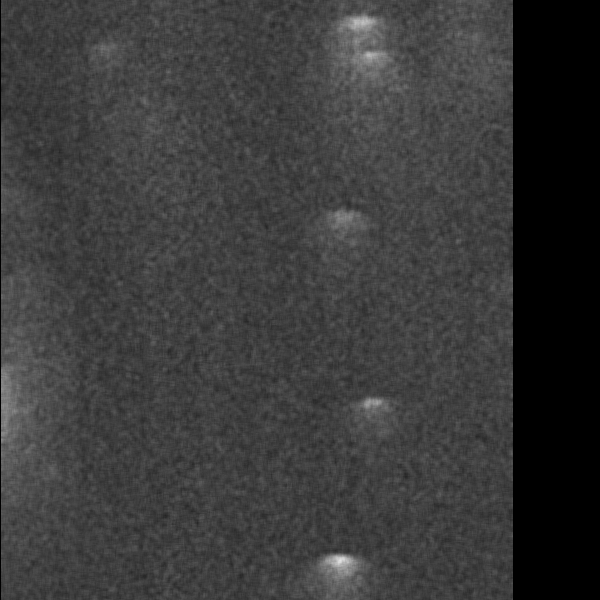spark: (325, 280, 365, 339), (48, 15, 74, 79), (487, 492, 515, 548), (283, 180, 319, 208), (197, 438, 220, 477)
